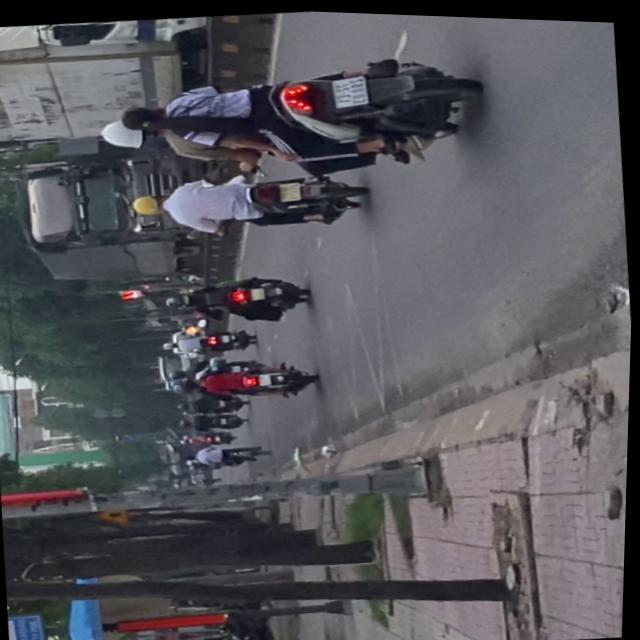helmet: (98, 114, 146, 149), (130, 190, 168, 216)
licenseplate: (83, 38, 488, 191), (126, 155, 369, 243)
motorcyclist: (117, 100, 166, 130)
nohelmet: (329, 73, 368, 105), (279, 180, 300, 199)
